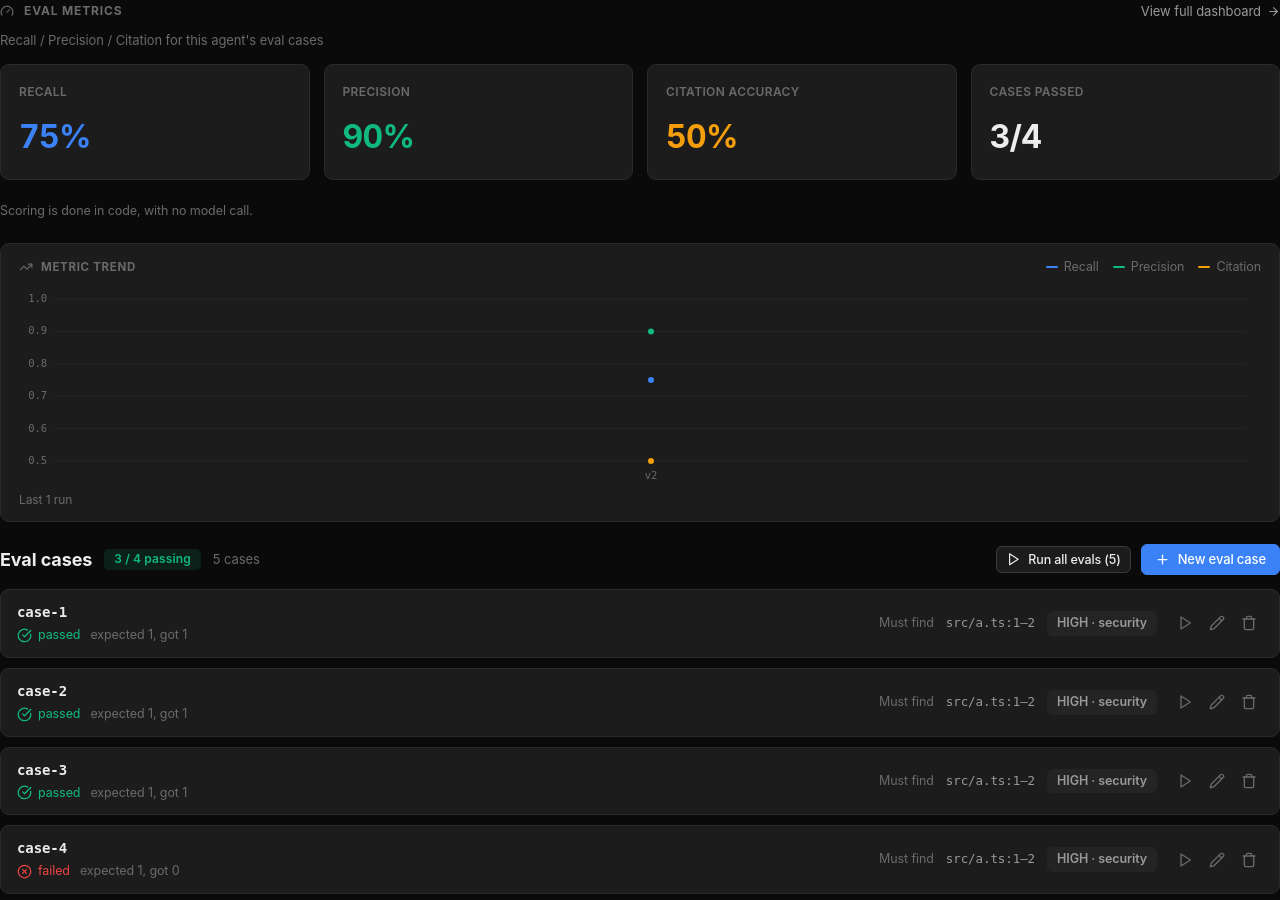
Test: EvalsTab — case editor (AC-26, AC-27, AC-37, AC-41) › opens the editor with the row's case on its edit control
This screenshot has width=1280, height=900.
Check: the text "5 cases" is shown, box [213,550,260,569]
Click the button named "Edit case-2". click: (1217, 702)
box: [1203,688,1231,716]
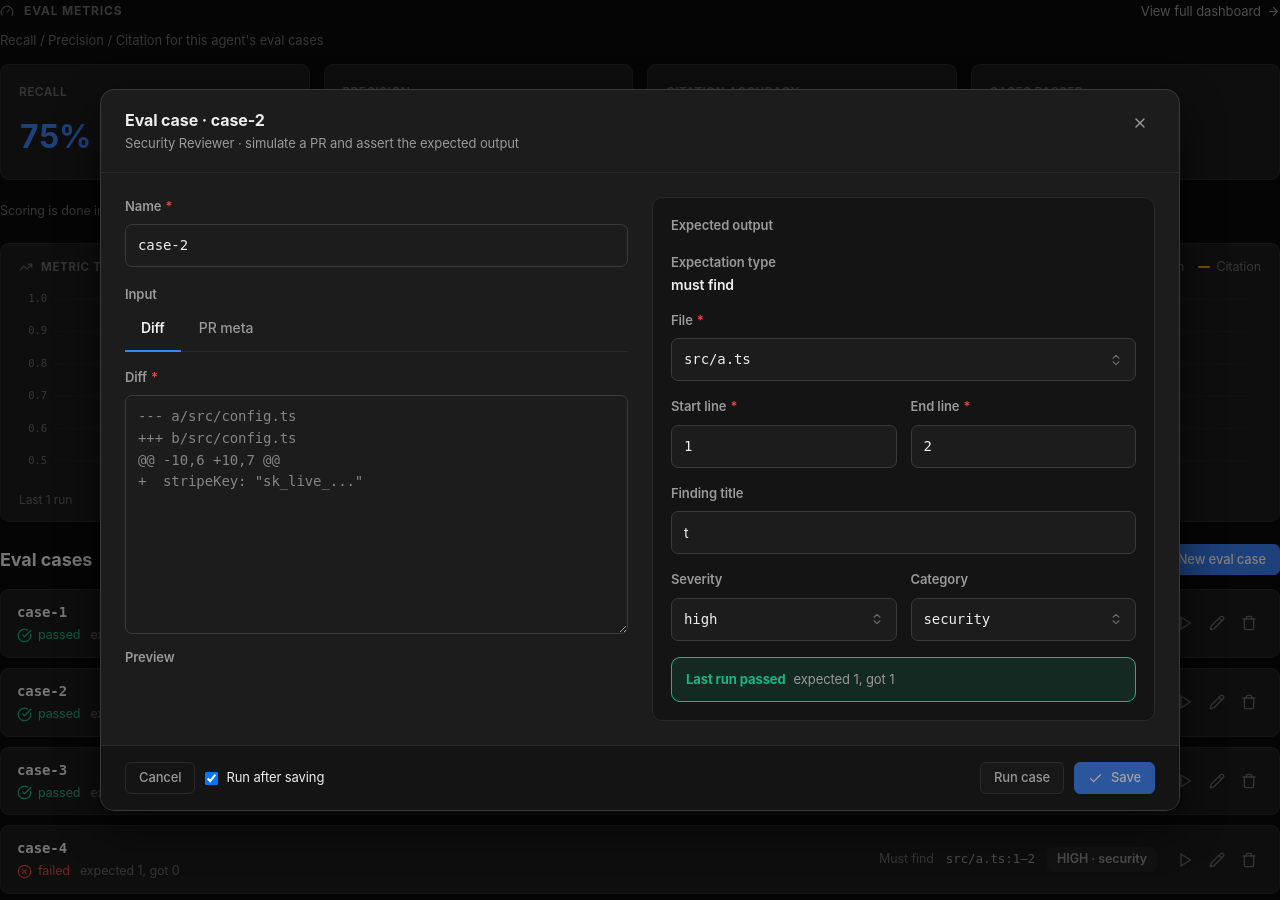
Check: the text "Eval case · case-2" is shown, box [125,110,265,130]
Check: the field labelled "Name*" holds "case-2", box [138,235,615,256]
